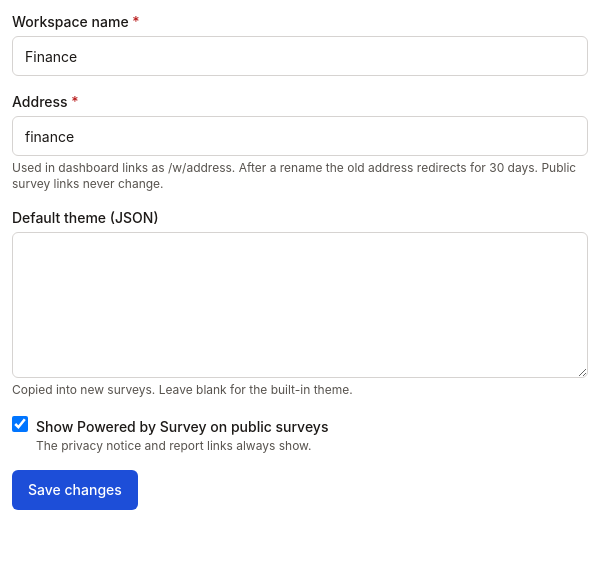
Scenario: GeneralForm › submits name, slug, theme and the footer toggle, then shows the result
Replace the text in the field labelled "Workspace name *" with "Finance Ops" at (300, 56), box [12,36,588,76]
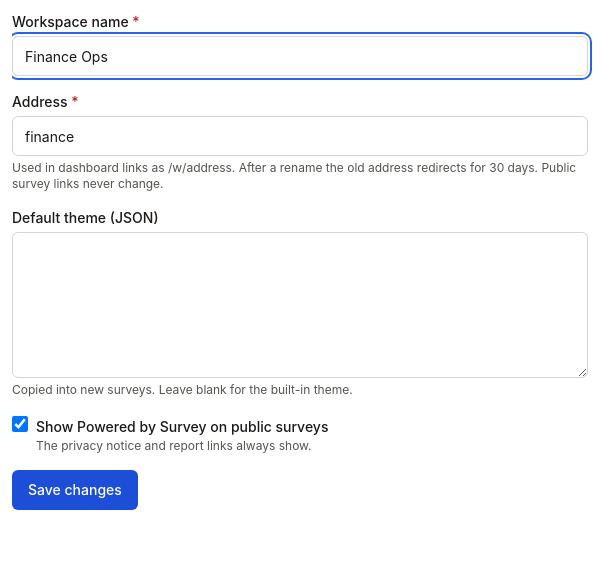
Click the checkbox labelled "Show Powered by Survey on public surveys" at (20, 424), box [12,416,28,432]
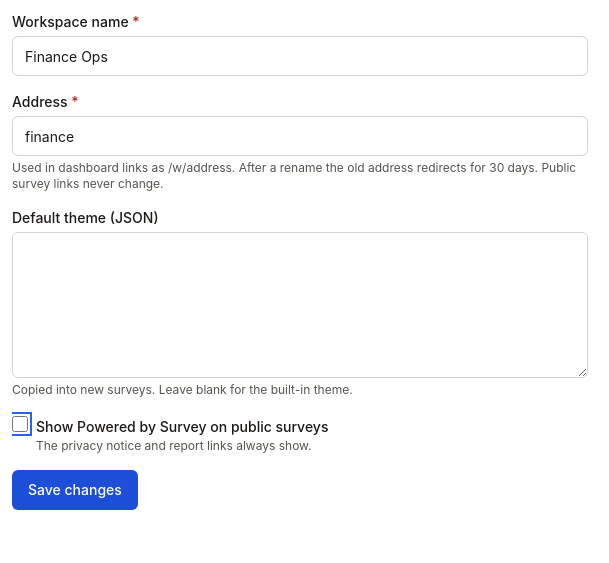
Click the button "Save changes" at (75, 490), box [12,470,138,510]
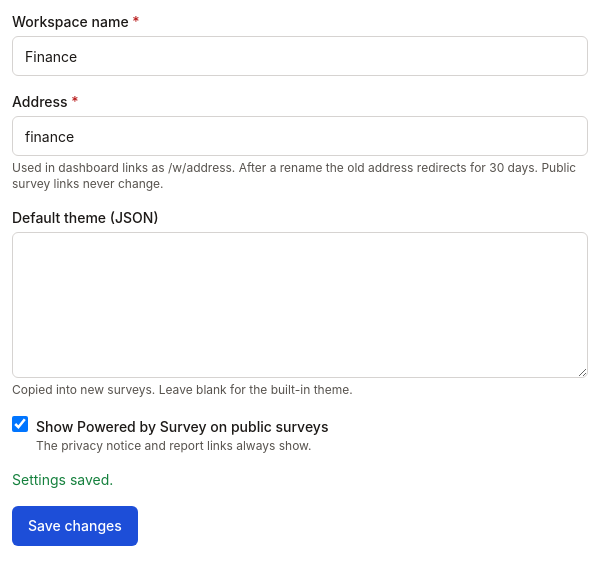
Expected: the message reads "Settings saved.", [12,471,113,488]
